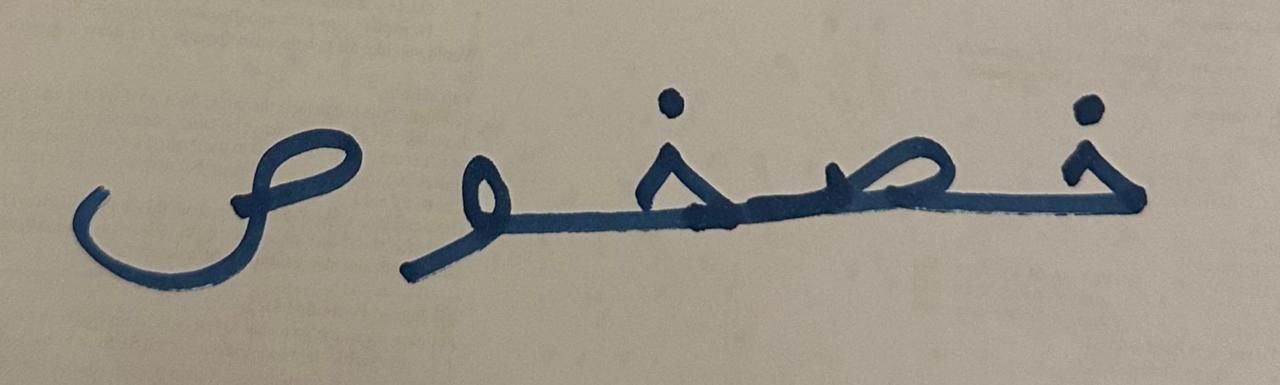lam: (534, 30, 750, 284), (983, 23, 1188, 290)
seen: (35, 52, 374, 348), (755, 22, 980, 291)
yeh: (378, 89, 531, 333)
